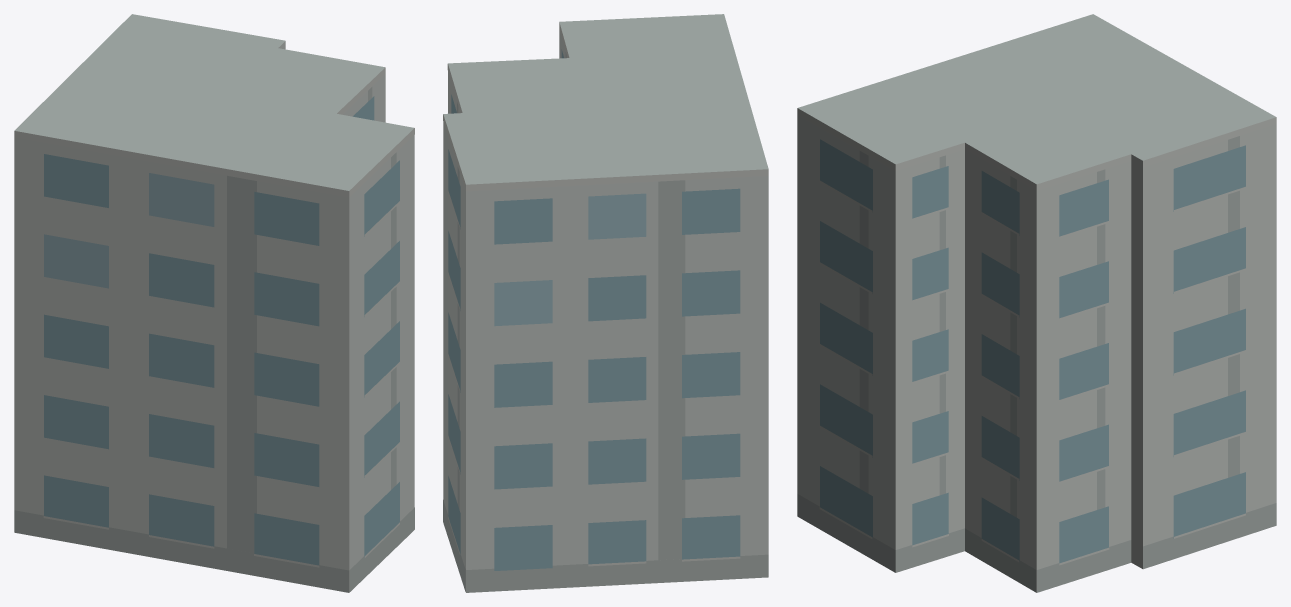
The model's file is survey-upis-32885083.glb.
The picture shows the model from 3 angles, left to right: view 1: azimuth 30°, elevation 25°; view 2: azimuth 150°, elevation 25°; view 3: azimuth 270°, elevation 25°; orthographic projection.
Parts seen in each view (by area): view 1: survey-upis-32885083.tmp; view 2: survey-upis-32885083.tmp; view 3: survey-upis-32885083.tmp.
Boxes of the visible parts, box(x1,y1,x2,y2) form: survey-upis-32885083.tmp: box(14, 14, 414, 592); survey-upis-32885083.tmp: box(443, 14, 768, 592); survey-upis-32885083.tmp: box(797, 14, 1276, 592).
Bounding box in the file's own units: 13.16 × 14.7 × 15.64.
